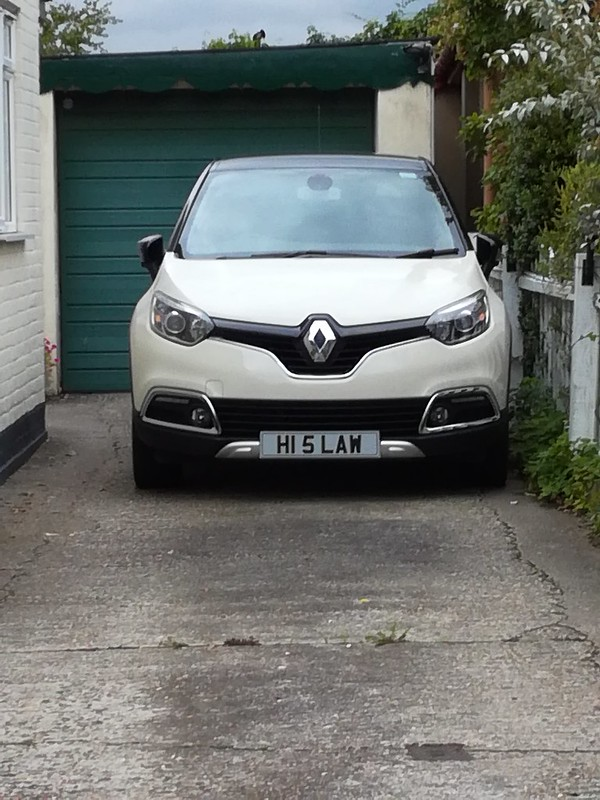number_plate: (248, 424, 390, 463)
